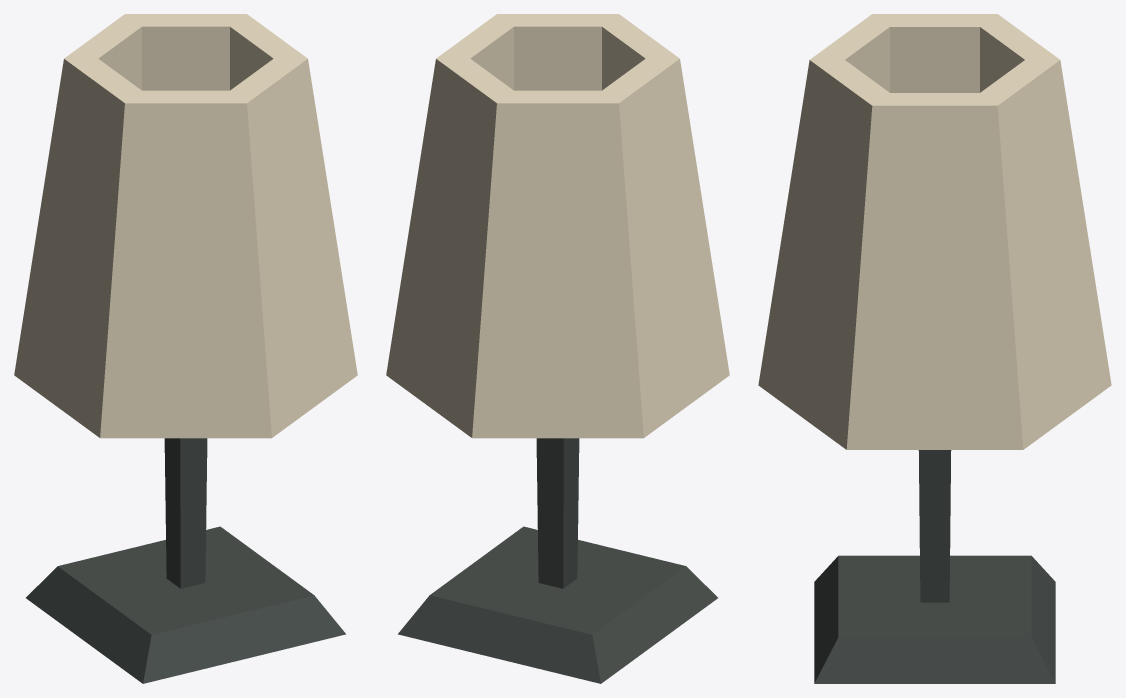
The model's file is lamp.glb.
The picture shows the model from 3 angles, left to right: view 1: azimuth 30°, elevation 25°; view 2: azimuth 150°, elevation 25°; view 3: azimuth 270°, elevation 25°; orthographic projection. The views are drawn at different scales.
Visible parts, largest first — view 1: lampRoundTable(Clone); view 2: lampRoundTable(Clone); view 3: lampRoundTable(Clone).
Boxes of the visible parts, x1,y1,x2,y2 form: lampRoundTable(Clone): [14, 14, 357, 683]; lampRoundTable(Clone): [386, 14, 729, 683]; lampRoundTable(Clone): [758, 14, 1111, 683].
Size of the model in its own units: 0.2032 by 0.42 by 0.2346.
